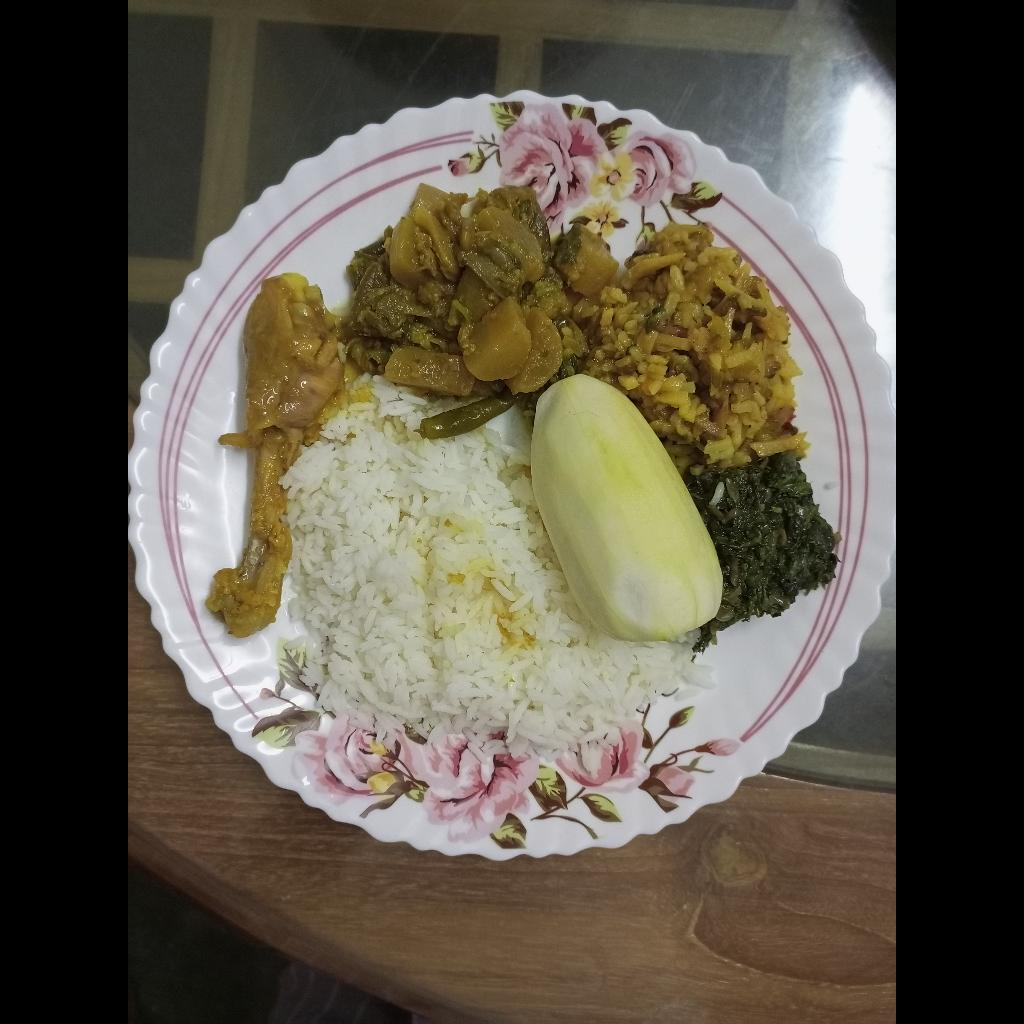chicken: (207, 269, 349, 635)
cucumber: (531, 373, 725, 642)
dundol: (390, 221, 623, 394), (391, 179, 555, 325)
potato: (583, 220, 808, 472)
rice: (286, 378, 714, 787)
shak: (684, 448, 840, 638)
shim: (341, 225, 448, 376)
